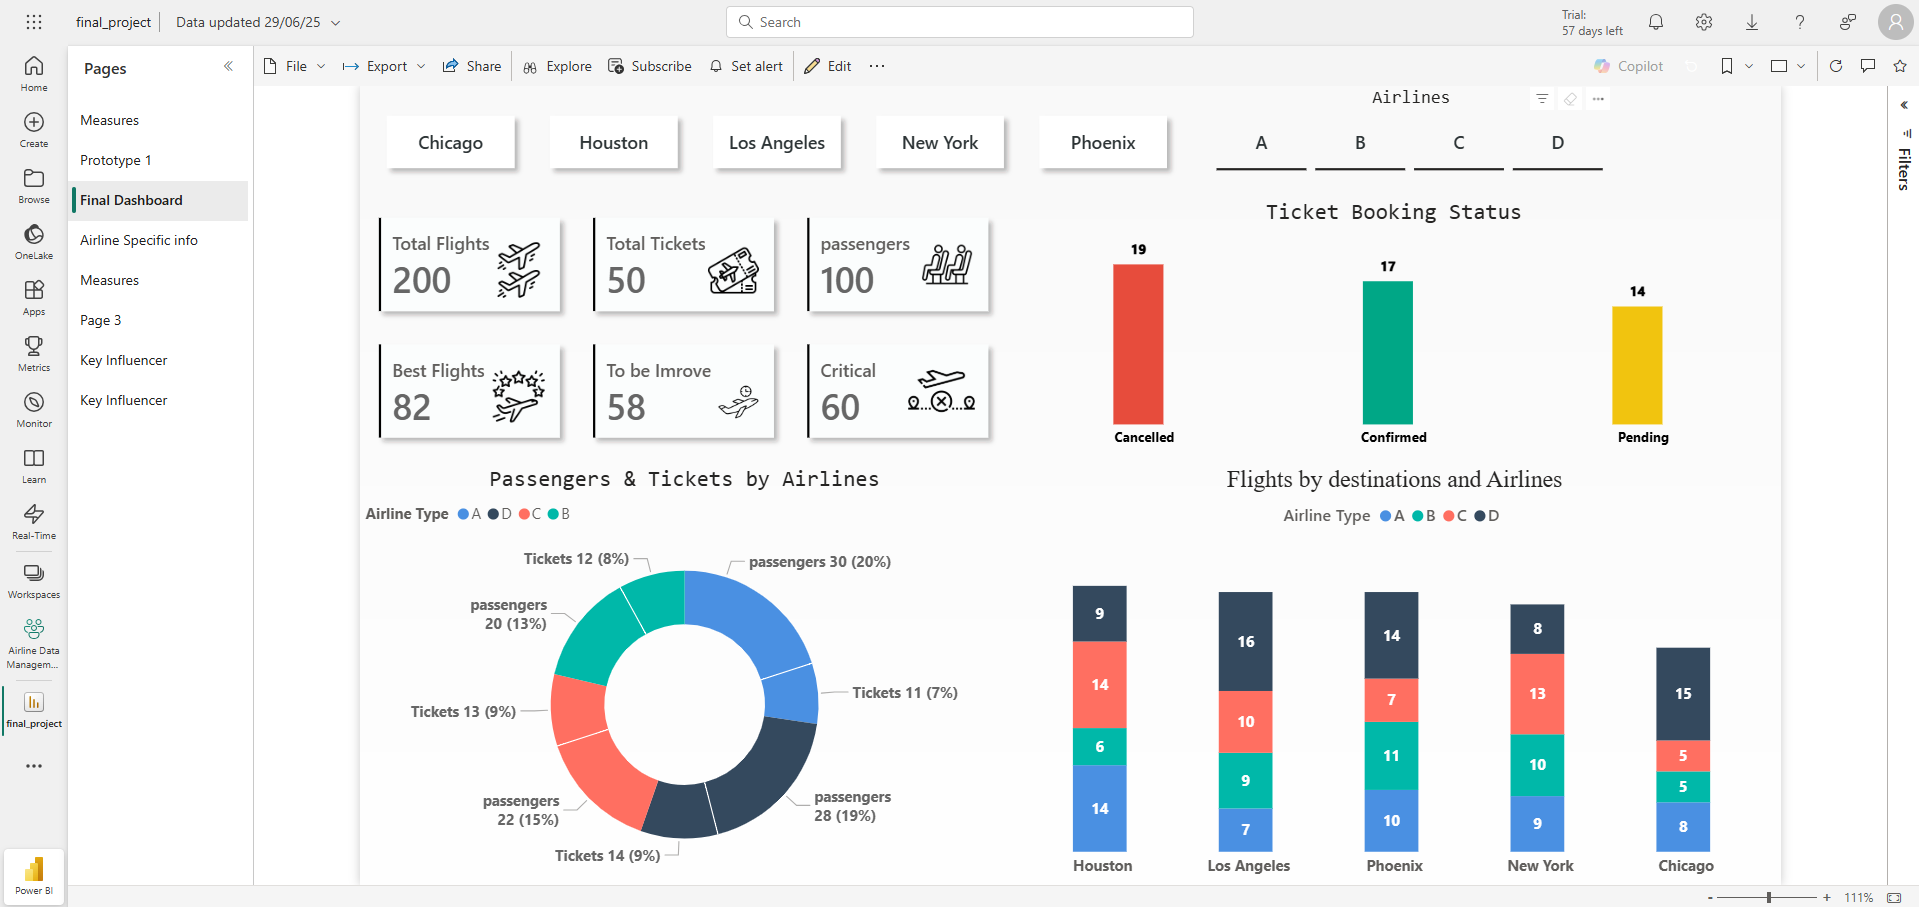

The dashboard page shown, as its layout file describes it:
{"tool":"powerbi","page":{"name":"Final Dashboard","canvas":[1280,720],"ordinal":2},"visuals":[{"type":"donutChart","fields":{"Y":["measures (2).Total passengers","measures (2).Total Tickets"],"Category":["Flight_Information.Airline Type"]},"box":[0,342,585.1,378.3],"z":0},{"type":"clusteredColumnChart","title":"Ticket Booking Status","fields":{"Y":["CountNonNull(Ticket_Information.FlightID)"],"Category":["Ticket_Information.BookingStatus"]},"box":[584.2,101.6,695.8,233.1],"z":1000},{"type":"advancedSlicerVisual","title":"Destination","fields":{"Values":["Flight_Information.Destination"]},"box":[7,9.9,738,81.6],"z":2000},{"type":"advancedSlicerVisual","title":"Airlines","fields":{"Values":["Flight_Information.Airline Type"]},"box":[766.4,0,360.9,81.7],"z":3000},{"type":"cardVisual","fields":{"Data":["measures (2).Total Flights","measures (2).Total Tickets","measures (2).Total passengers","measures (2).Best Flights","measures (2).To Be Improved Flights","measures (2).critical Flights"]},"box":[0,101.6,584.2,233.1],"z":4000},{"type":"card","fields":{"Values":["measures (2).Total passengers"]},"box":[238.6,512.5,106.1,85.3],"z":5000},{"type":"columnChart","fields":{"Category":["Flight_Information.Destination"],"Series":["Flight_Information.Airline Type"],"Y":["CountNonNull(Flight_Information.FlightID)"]},"box":[585.1,342,694.9,378.3],"z":6000}]}

Visuals, with their boxes on the page's 1280x720 design canvas (x1, y1, x2, y2). These are canvas units, not pixel positions in the 1919x907 screenshot, which may show the page scaled, cropped or inside an application window:
donutChart - measures (2).Total passengers x measures (2).Total Tickets: 0 342 585 720
"Ticket Booking Status" clusteredColumnChart: 584 102 1280 335
"Destination" advancedSlicerVisual: 7 10 745 92
"Airlines" advancedSlicerVisual: 766 0 1127 82
cardVisual - measures (2).Total Flights x measures (2).Total Tickets: 0 102 584 335
card - measures (2).Total passengers: 239 512 345 598
columnChart - Flight_Information.Destination x Flight_Information.Airline Type: 585 342 1280 720
